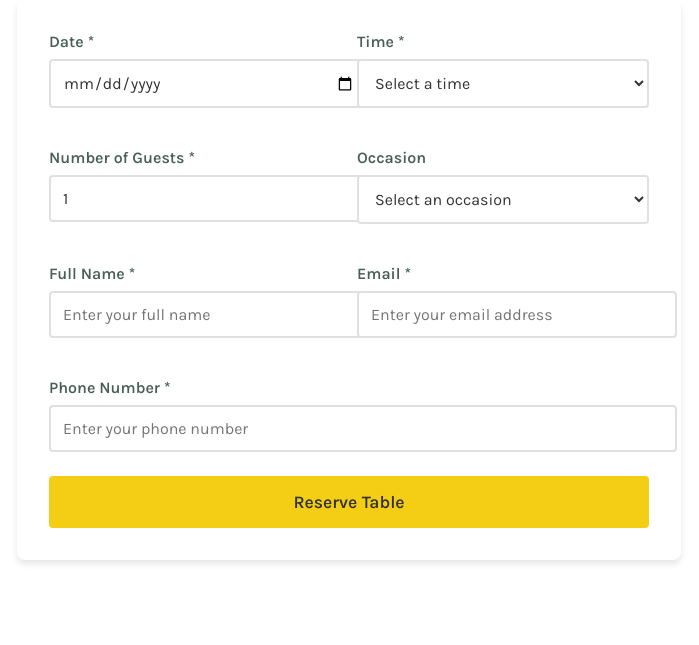
Test case: BookingForm Component › validates email format
The image size is (699, 645).
In the field labelled "Email *": (517, 314) [357, 291, 677, 338], type "invalid-email"
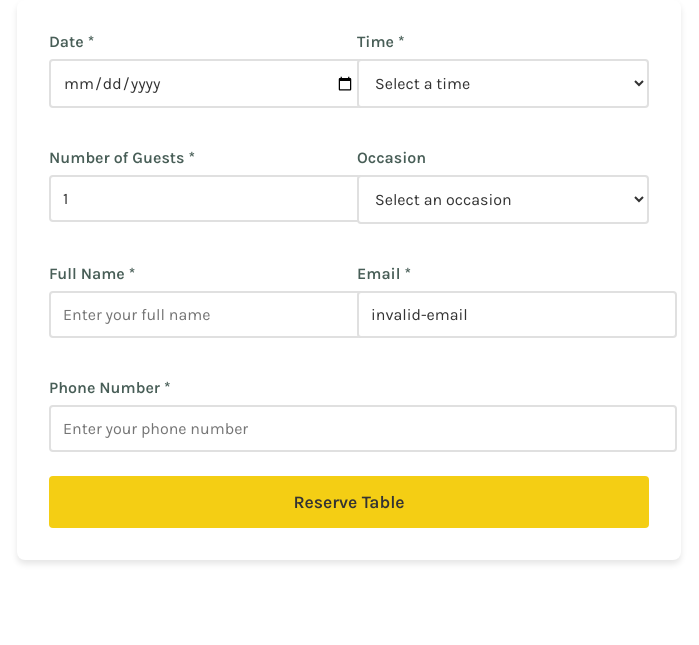
Click the button "Reserve Table": click(349, 502) [49, 476, 649, 528]
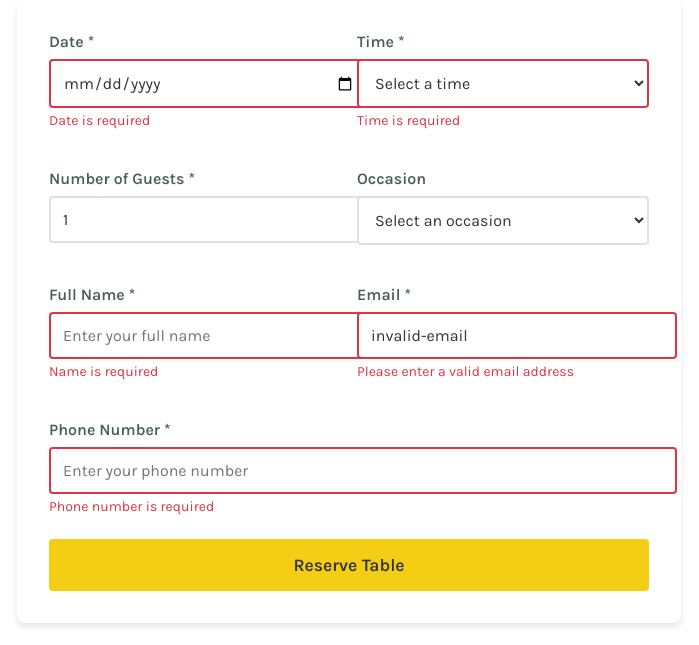
Check: the text "Please enter a valid email address" is shown, box [357, 363, 574, 380]
